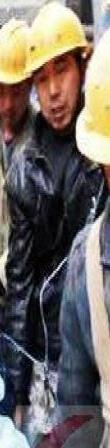gloves: (0, 324, 14, 387), (0, 277, 18, 321)
hard-hat: (0, 0, 53, 109)
ppe-suit: (0, 109, 45, 231)
